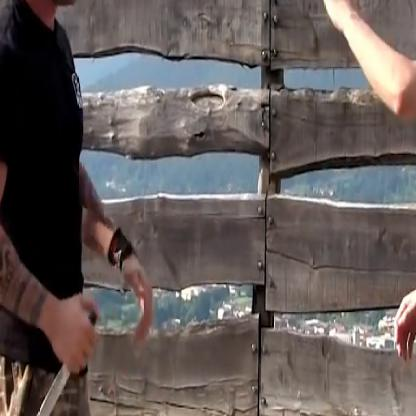knife: (24, 303, 104, 415)
